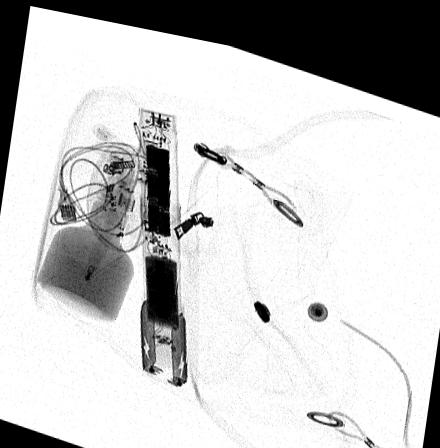Baton: (138, 101, 187, 380)
